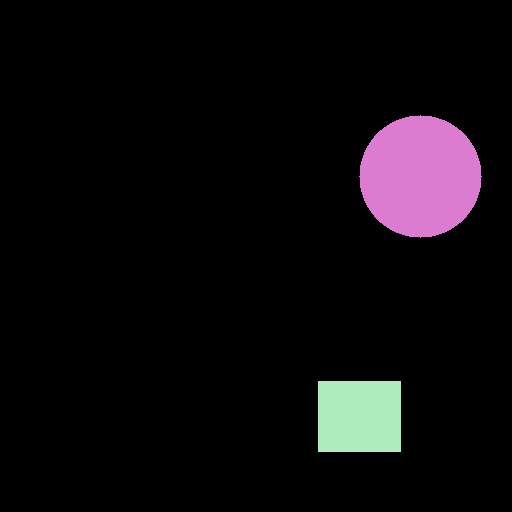circle: (359, 115, 481, 237)
rectangle: (318, 381, 400, 451)
